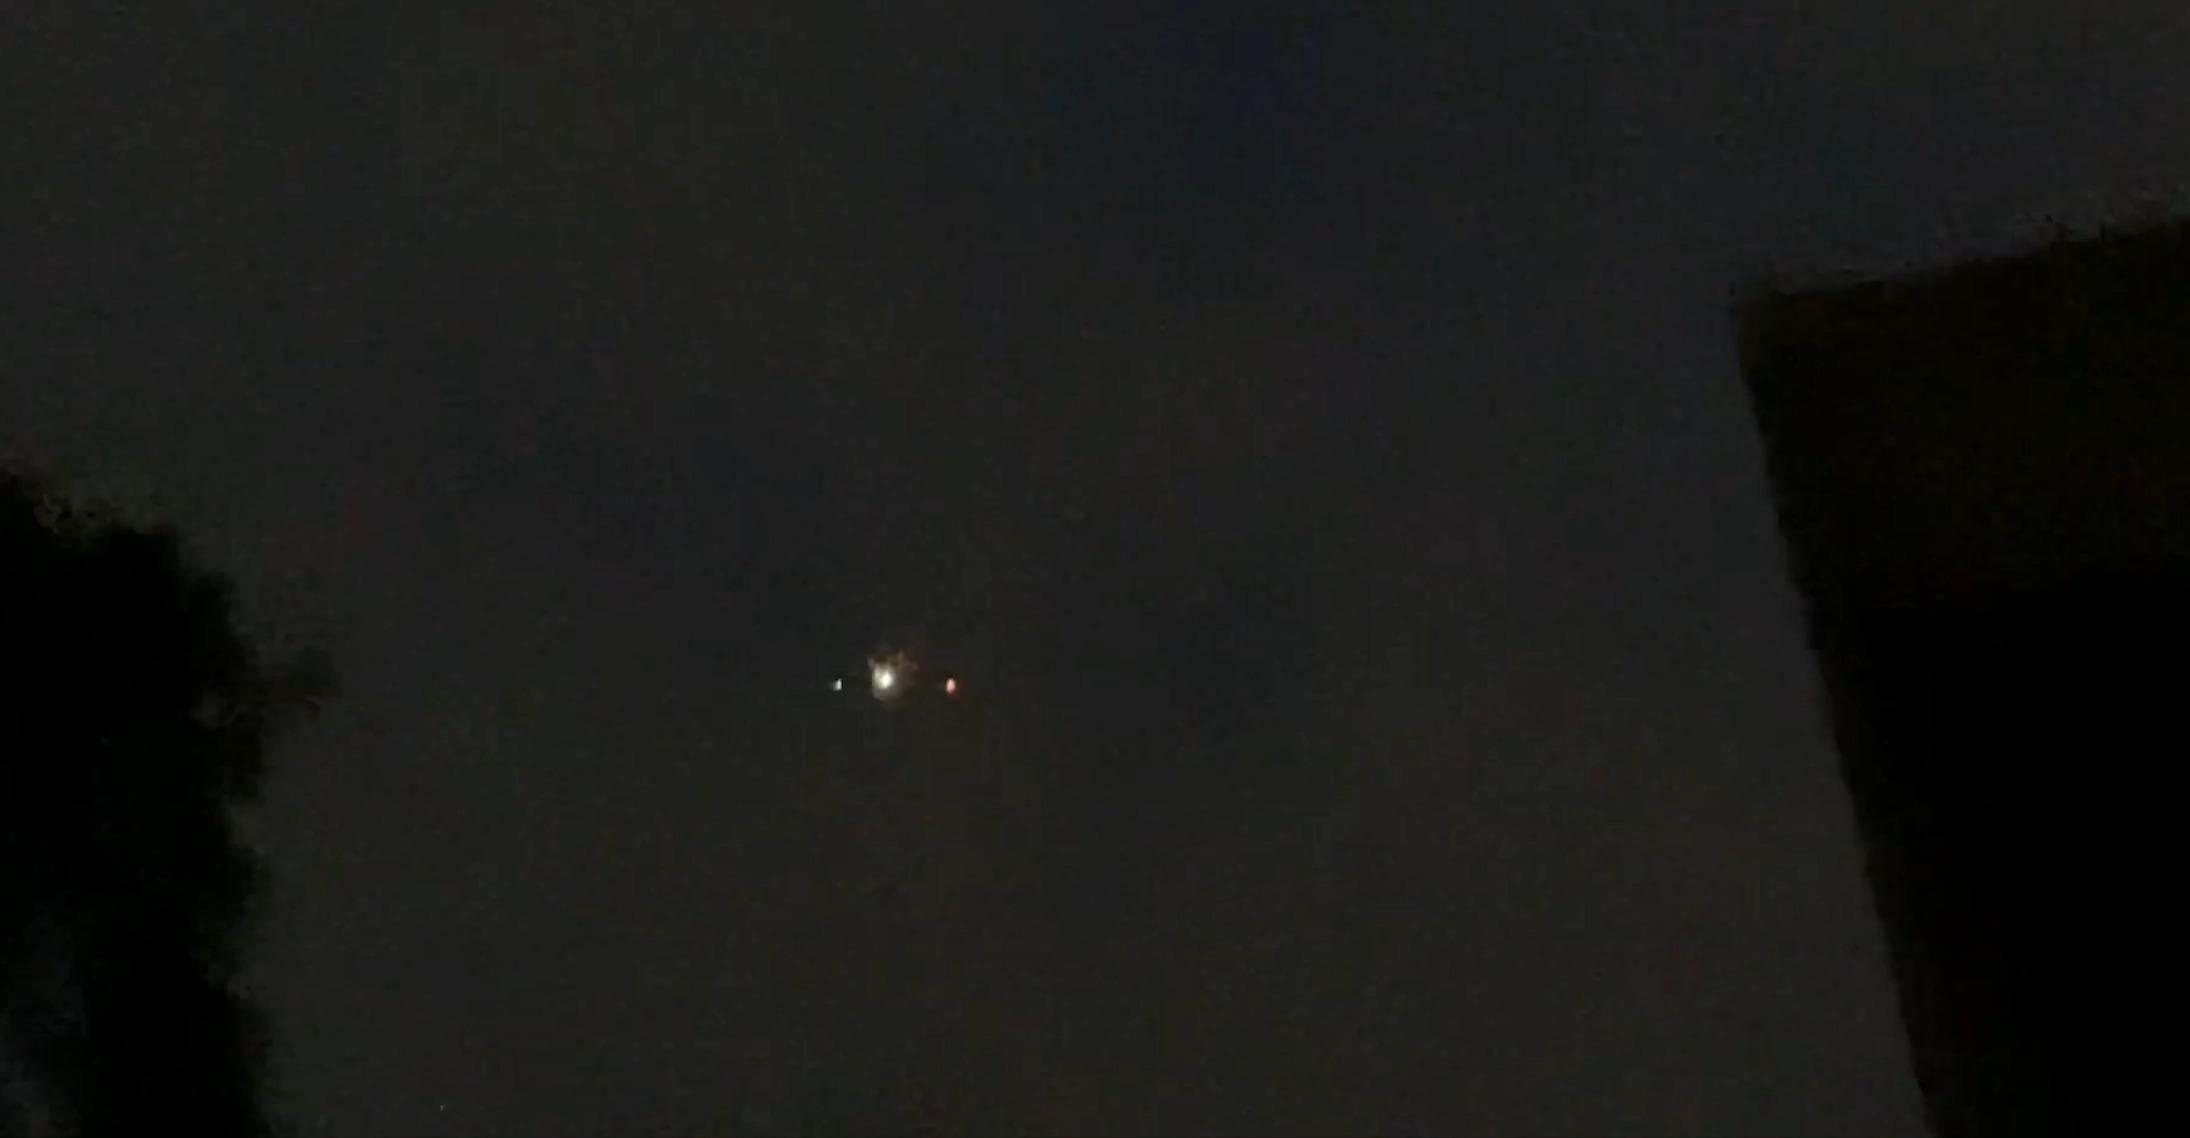Plane: (776, 620, 1008, 730)
